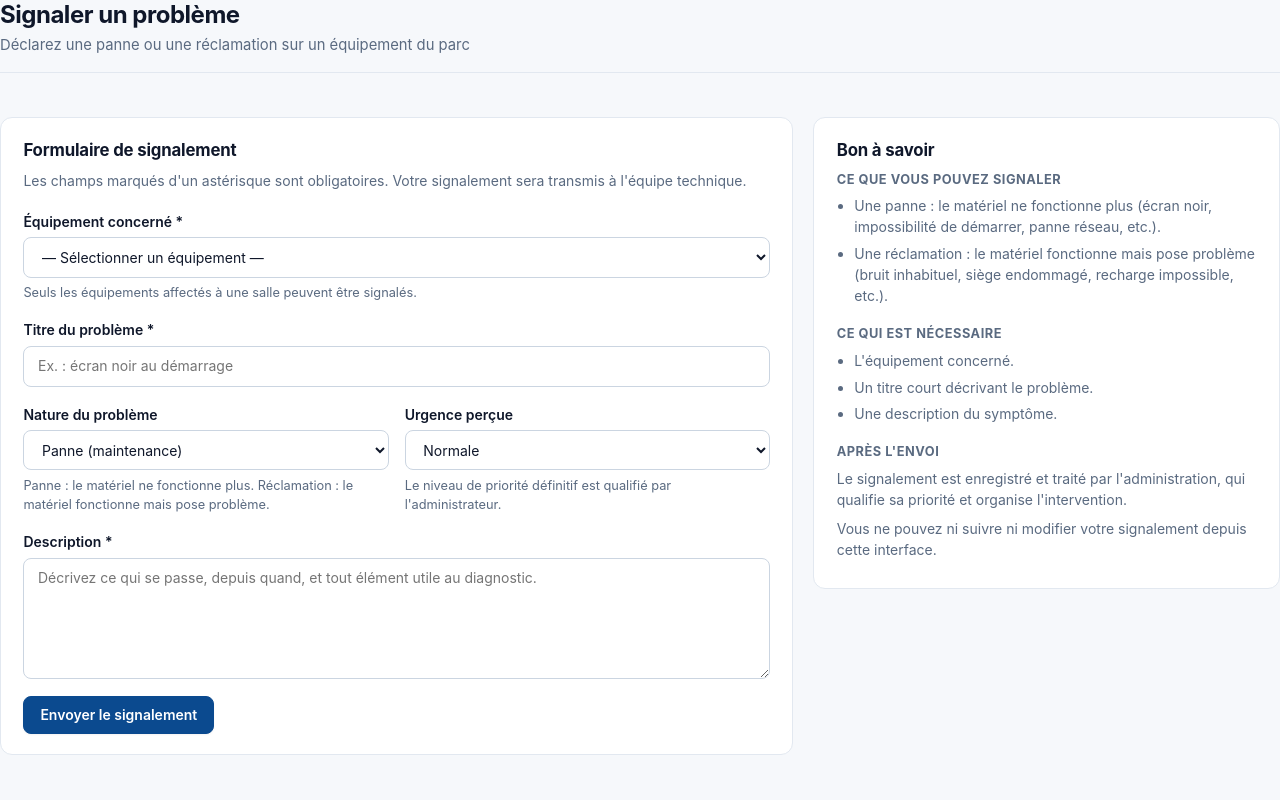
Test: TicketPublic.vue › validation et soumission › envoie un signalement valide puis réinitialise le formulaire
The width and height of the screenshot is (1280, 800).
Select "Vidéoprojecteur — INV-001" in the dropdown with id "equipement": (397, 258) [23,237,770,278]
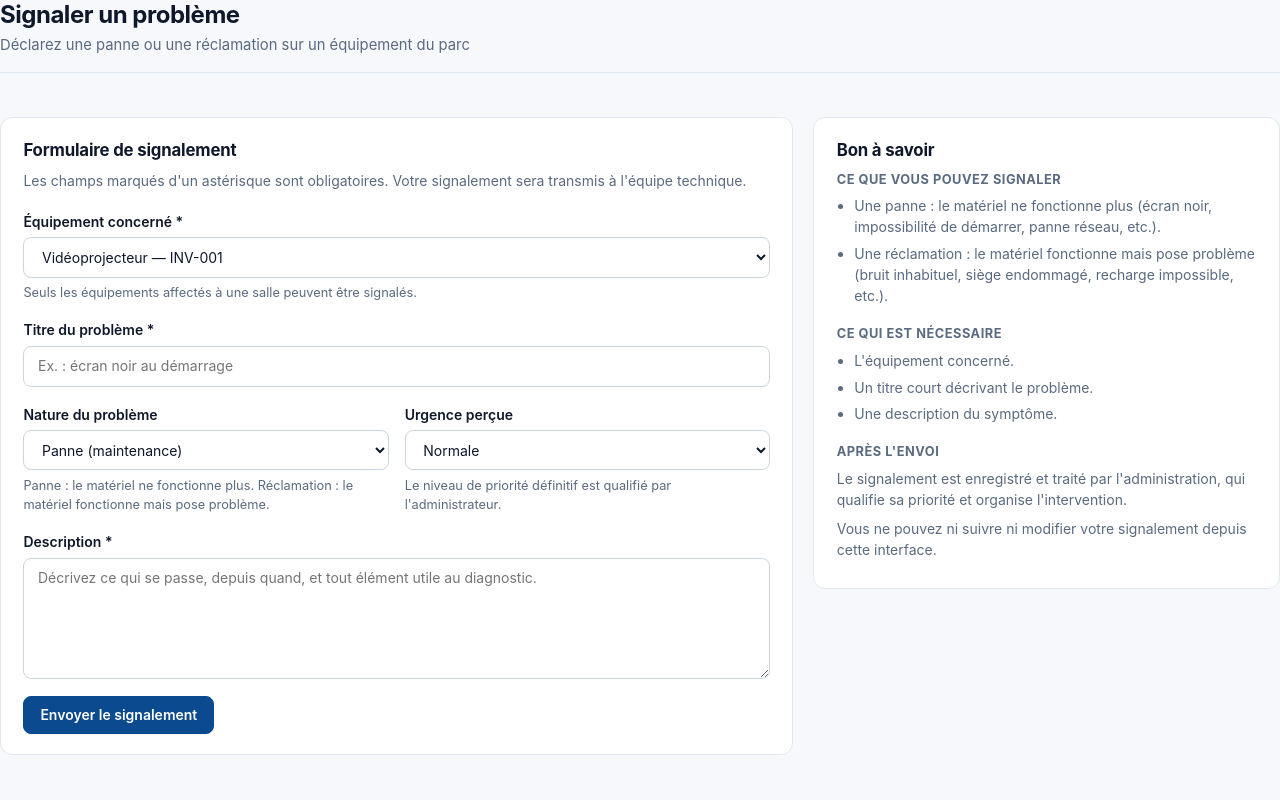
In the field with id "titre": (397, 366) [23,346,770,387], type "  Écran noir au démarrage  "
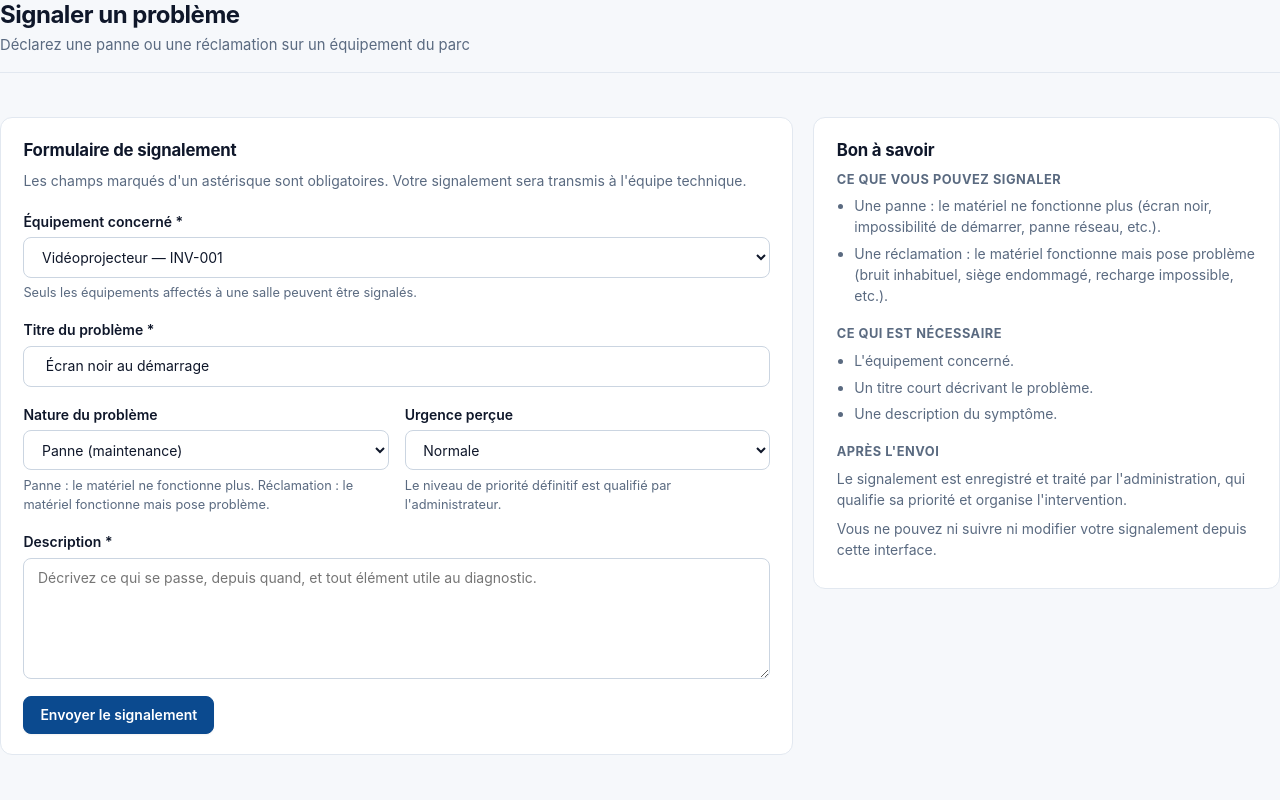
Replace the text in the text box with id "description" with "  L'écran reste noir après démarrage.  ": (397, 618) [23,558,770,679]
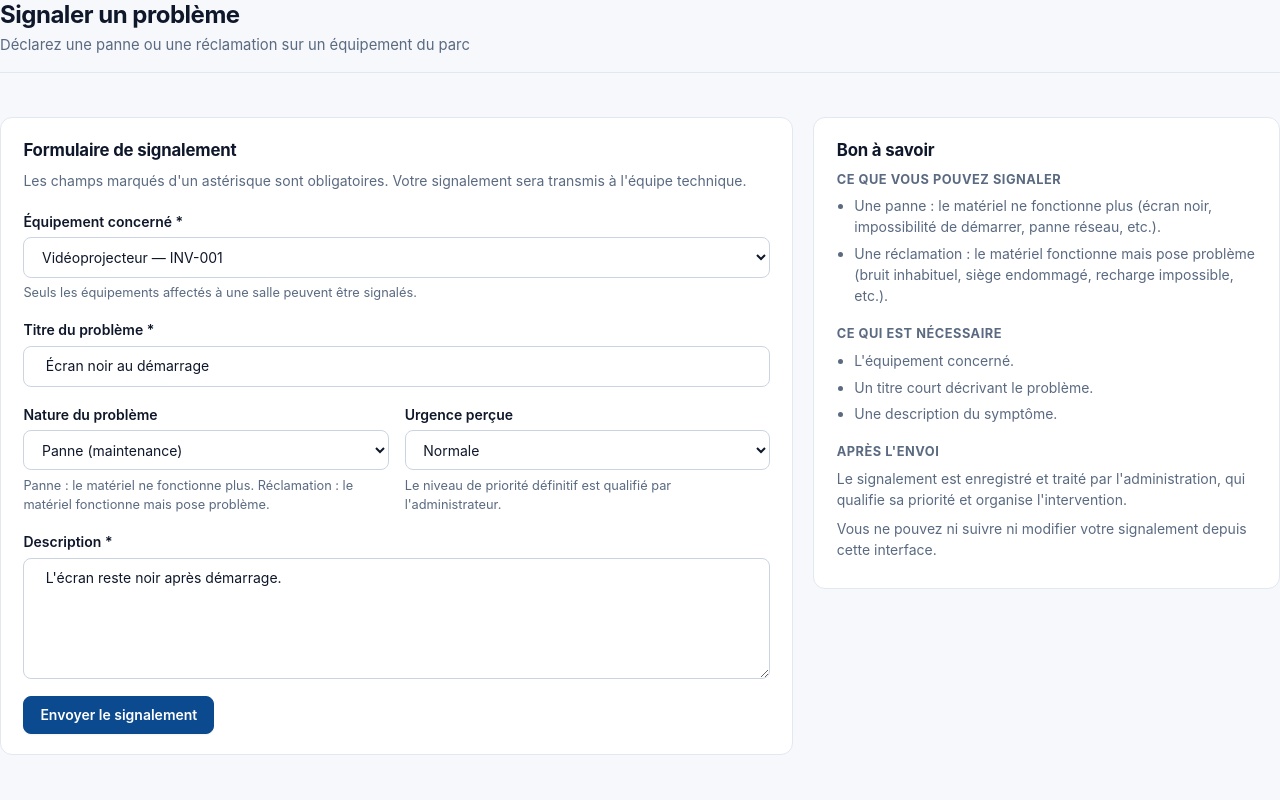
Submit the form, box [23,211,770,734]
(page scrolled)
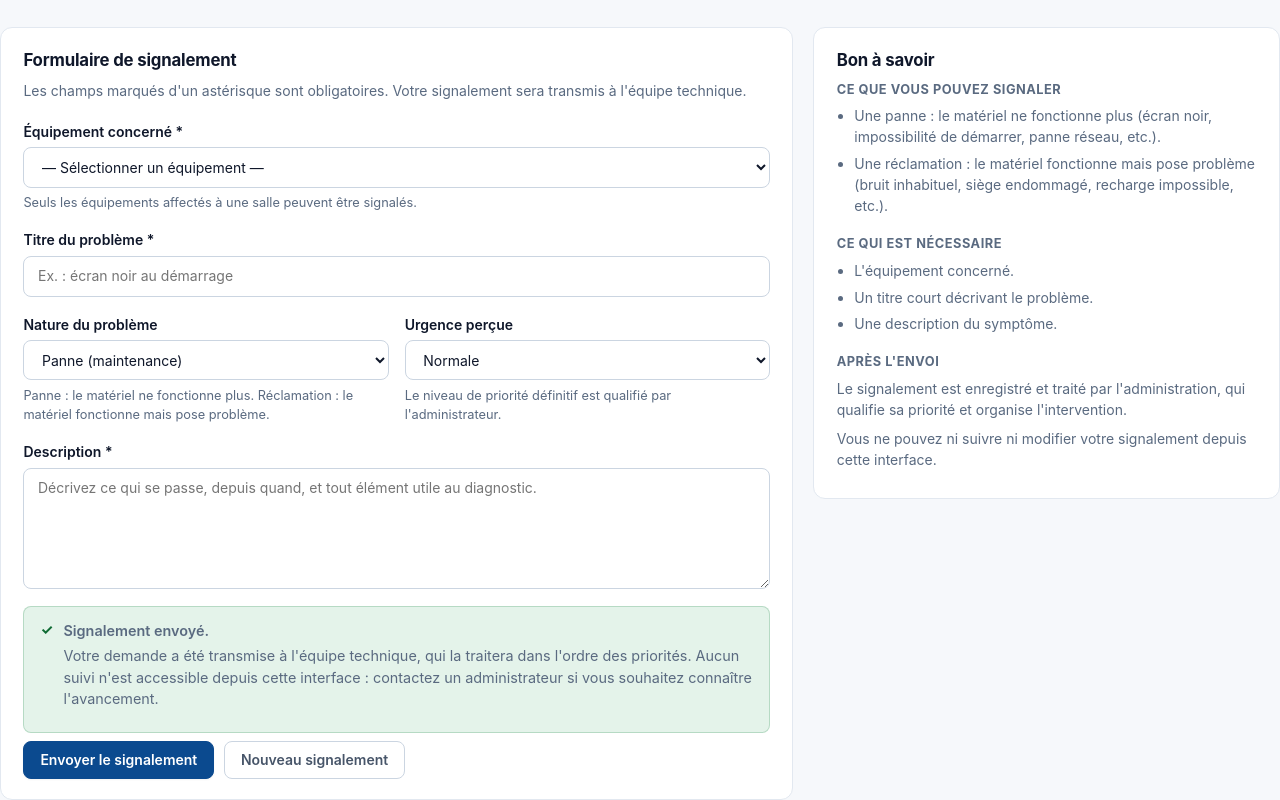
Expected: the field with id "titre" is empty, [23,256,770,297]
Expected: the text box with id "description" is empty, [23,468,770,589]
Expected: the message shows "Signalement envoyé.", [64,622,209,639]
